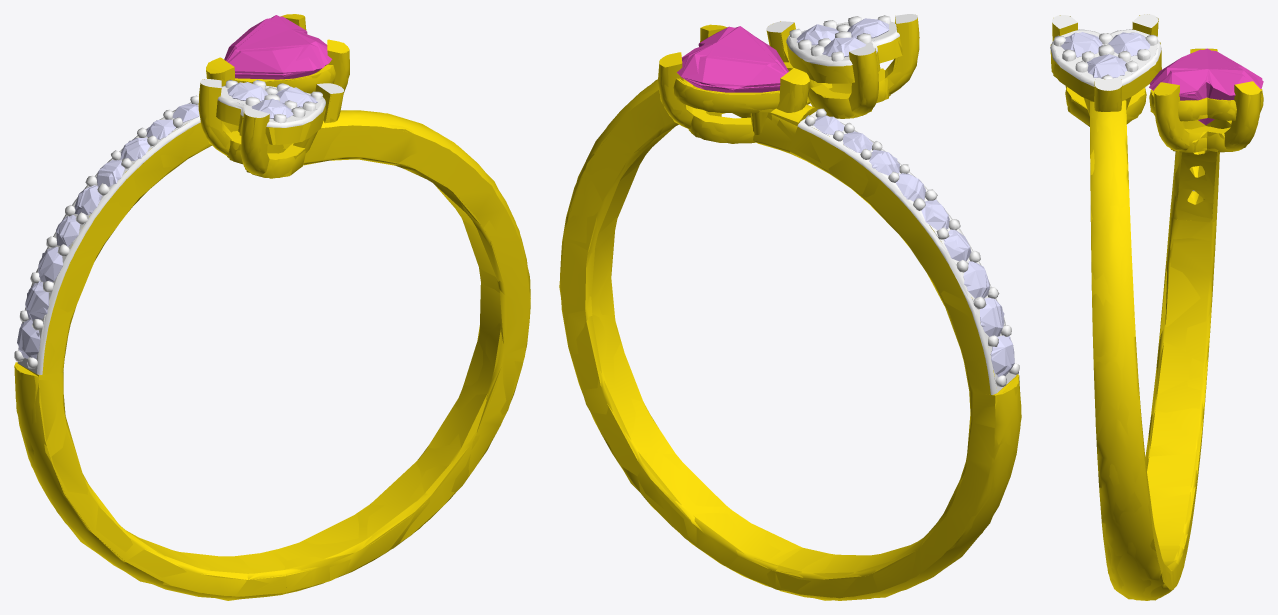
Rendered from DLR-D000733352.glb.
The picture shows the model from 3 angles, left to right: view 1: azimuth 30°, elevation 25°; view 2: azimuth 150°, elevation 25°; view 3: azimuth 270°, elevation 25°; orthographic projection. The views are drawn at different scales.
Parts seen in each view (by area): view 1: highPolyMesh, lowPolyMesh; view 2: highPolyMesh, lowPolyMesh; view 3: highPolyMesh, lowPolyMesh.
Boxes of the visible parts, x1,y1,x2,y2 form: highPolyMesh: (14,14,530,599); lowPolyMesh: (14,14,530,600); highPolyMesh: (560,15,1021,600); lowPolyMesh: (559,14,1021,600); highPolyMesh: (1050,14,1263,600); lowPolyMesh: (1050,14,1263,600).
Bounding box in the file's own units: 0.0194 × 0.021 × 0.00769.
